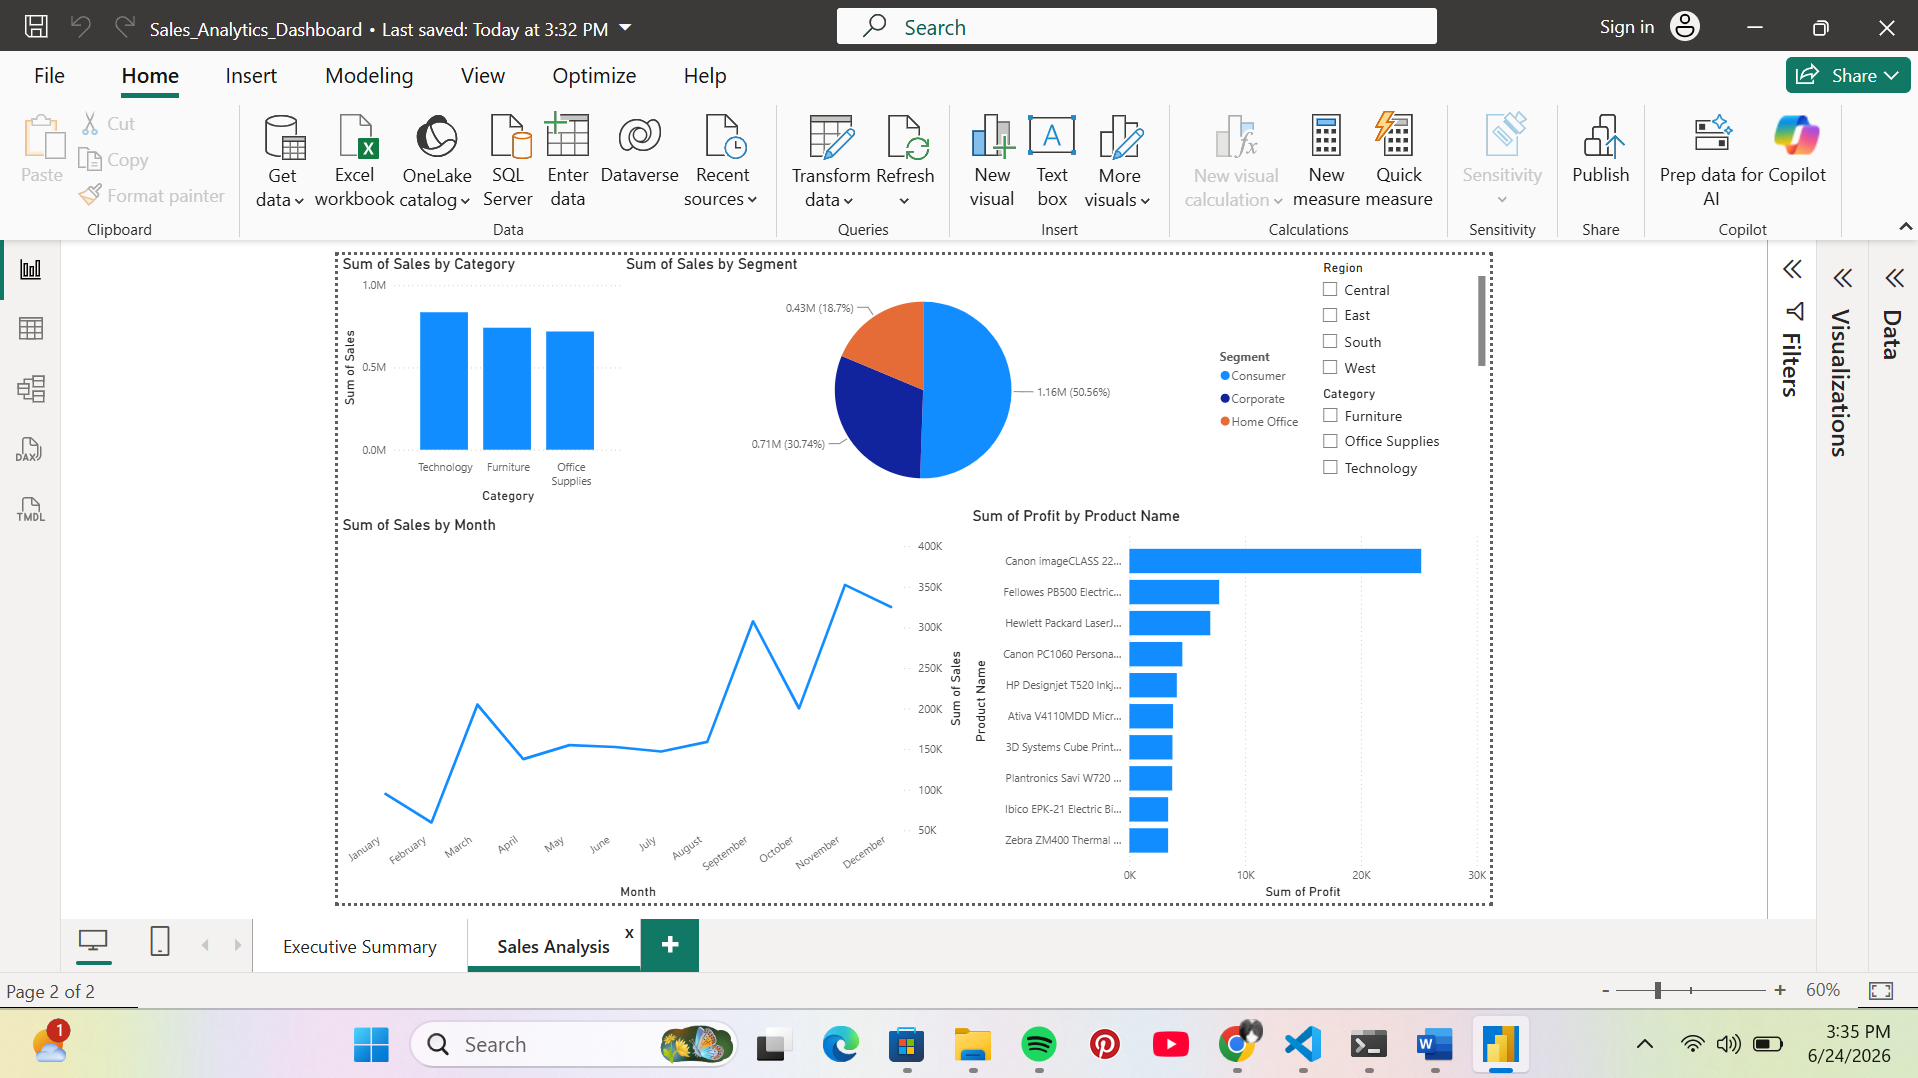

Layout of this report page (visuals, bound fields, positions):
{"tool":"powerbi","page":{"name":"Sales Analysis","canvas":[1280,720],"ordinal":1},"visuals":[{"type":"clusteredColumnChart","fields":{"Category":["clean_sales.Category"],"Y":["Sum(clean_sales.Sales)"]},"box":[0,0,320,280],"z":0},{"type":"lineChart","fields":{"Y2":["Sum(clean_sales.Sales)"],"Category":["clean_sales.Order Date.Variation.Date Hierarchy.Month"]},"box":[0,290,697.5,430],"z":1000},{"type":"clusteredBarChart","fields":{"Category":["clean_sales.Product Name"],"Y":["Sum(clean_sales.Profit)"]},"box":[700,280,580,440],"z":2000},{"type":"pieChart","fields":{"Category":["clean_sales.Segment"],"Y":["Sum(clean_sales.Sales)"]},"box":[315,0,766.7,280],"z":3000},{"type":"slicer","fields":{"Values":["clean_sales.Region"]},"box":[1081.7,0,198.3,140],"z":4000},{"type":"slicer","fields":{"Values":["clean_sales.Category"]},"box":[1081.7,140,198.3,126.7],"z":4001}]}

Visuals, with their boxes on the page's 1280x720 design canvas (x1, y1, x2, y2). These are canvas units, not pixel positions in the 1918x1078 screenshot, which may show the page scaled, cropped or inside an application window:
clusteredColumnChart - clean_sales.Category x Sum(clean_sales.Sales): Rect(0, 0, 320, 280)
lineChart - Sum(clean_sales.Sales) x clean_sales.Order Date.Variation.Date Hierarchy.Month: Rect(0, 290, 698, 720)
clusteredBarChart - clean_sales.Product Name x Sum(clean_sales.Profit): Rect(700, 280, 1280, 720)
pieChart - clean_sales.Segment x Sum(clean_sales.Sales): Rect(315, 0, 1082, 280)
slicer - clean_sales.Region: Rect(1082, 0, 1280, 140)
slicer - clean_sales.Category: Rect(1082, 140, 1280, 267)
